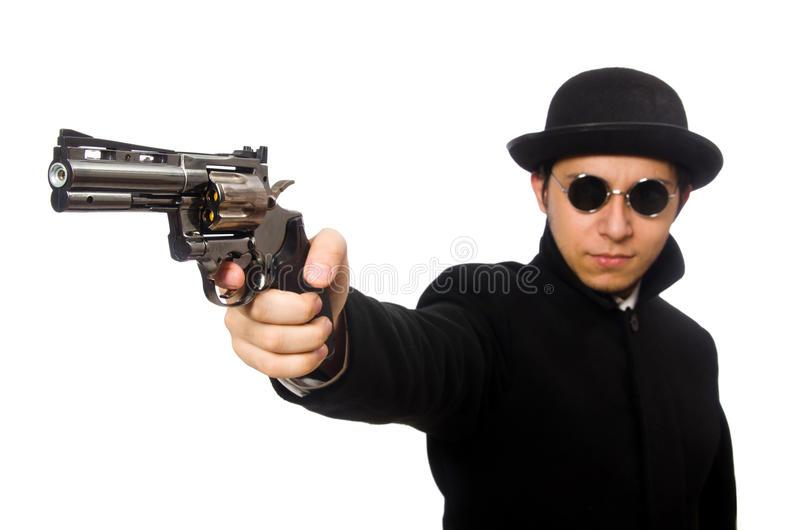criminal: (46, 62, 743, 530)
weapon: (45, 122, 344, 365)
